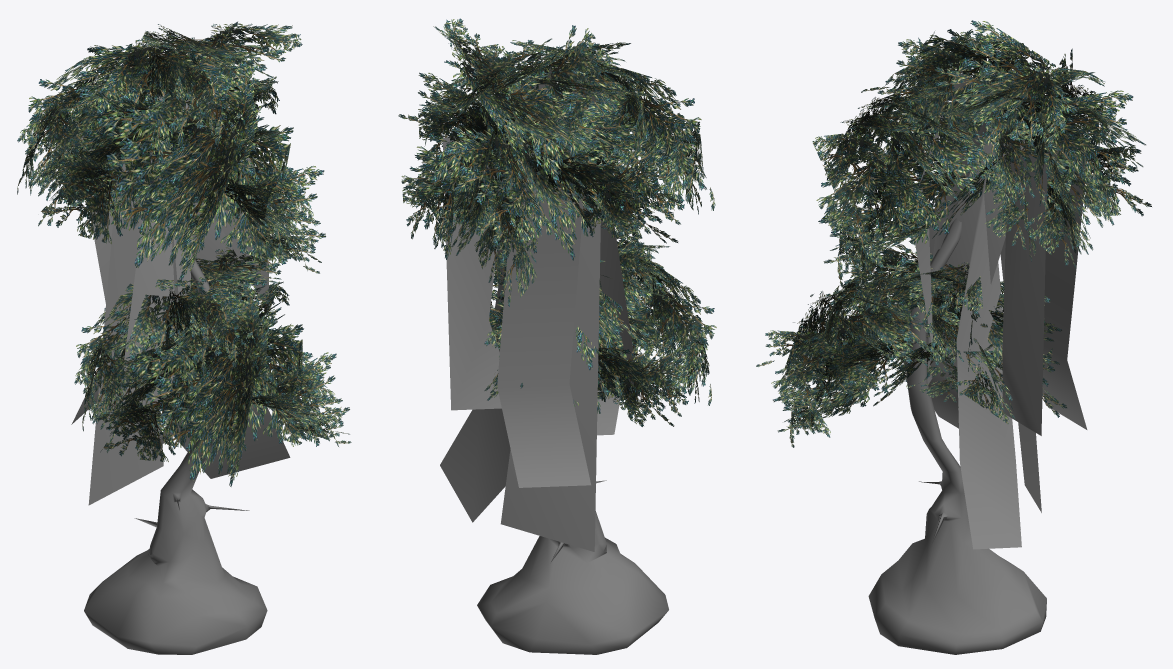
The model's file is svamptree_lod1.fbx.
3 views of the same model, side by side, from view 1: azimuth 30°, elevation 25°; view 2: azimuth 150°, elevation 25°; view 3: azimuth 270°, elevation 25° (orthographic). The views are drawn at different scales.
Parts seen in each view (by area): view 1: Default_Layer; view 2: Default_Layer; view 3: Default_Layer.
Part boxes in pixels (box(x1,y1,x2,y2)): Default_Layer: box(17, 21, 351, 654); Default_Layer: box(398, 18, 716, 654); Default_Layer: box(756, 20, 1151, 654).
Bounding box in the file's own units: 639 × 1255 × 781.
